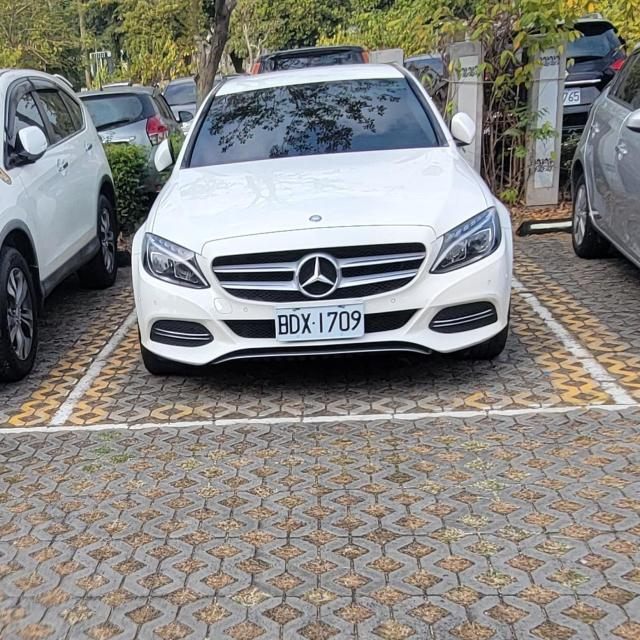W: (269, 296, 370, 348)
